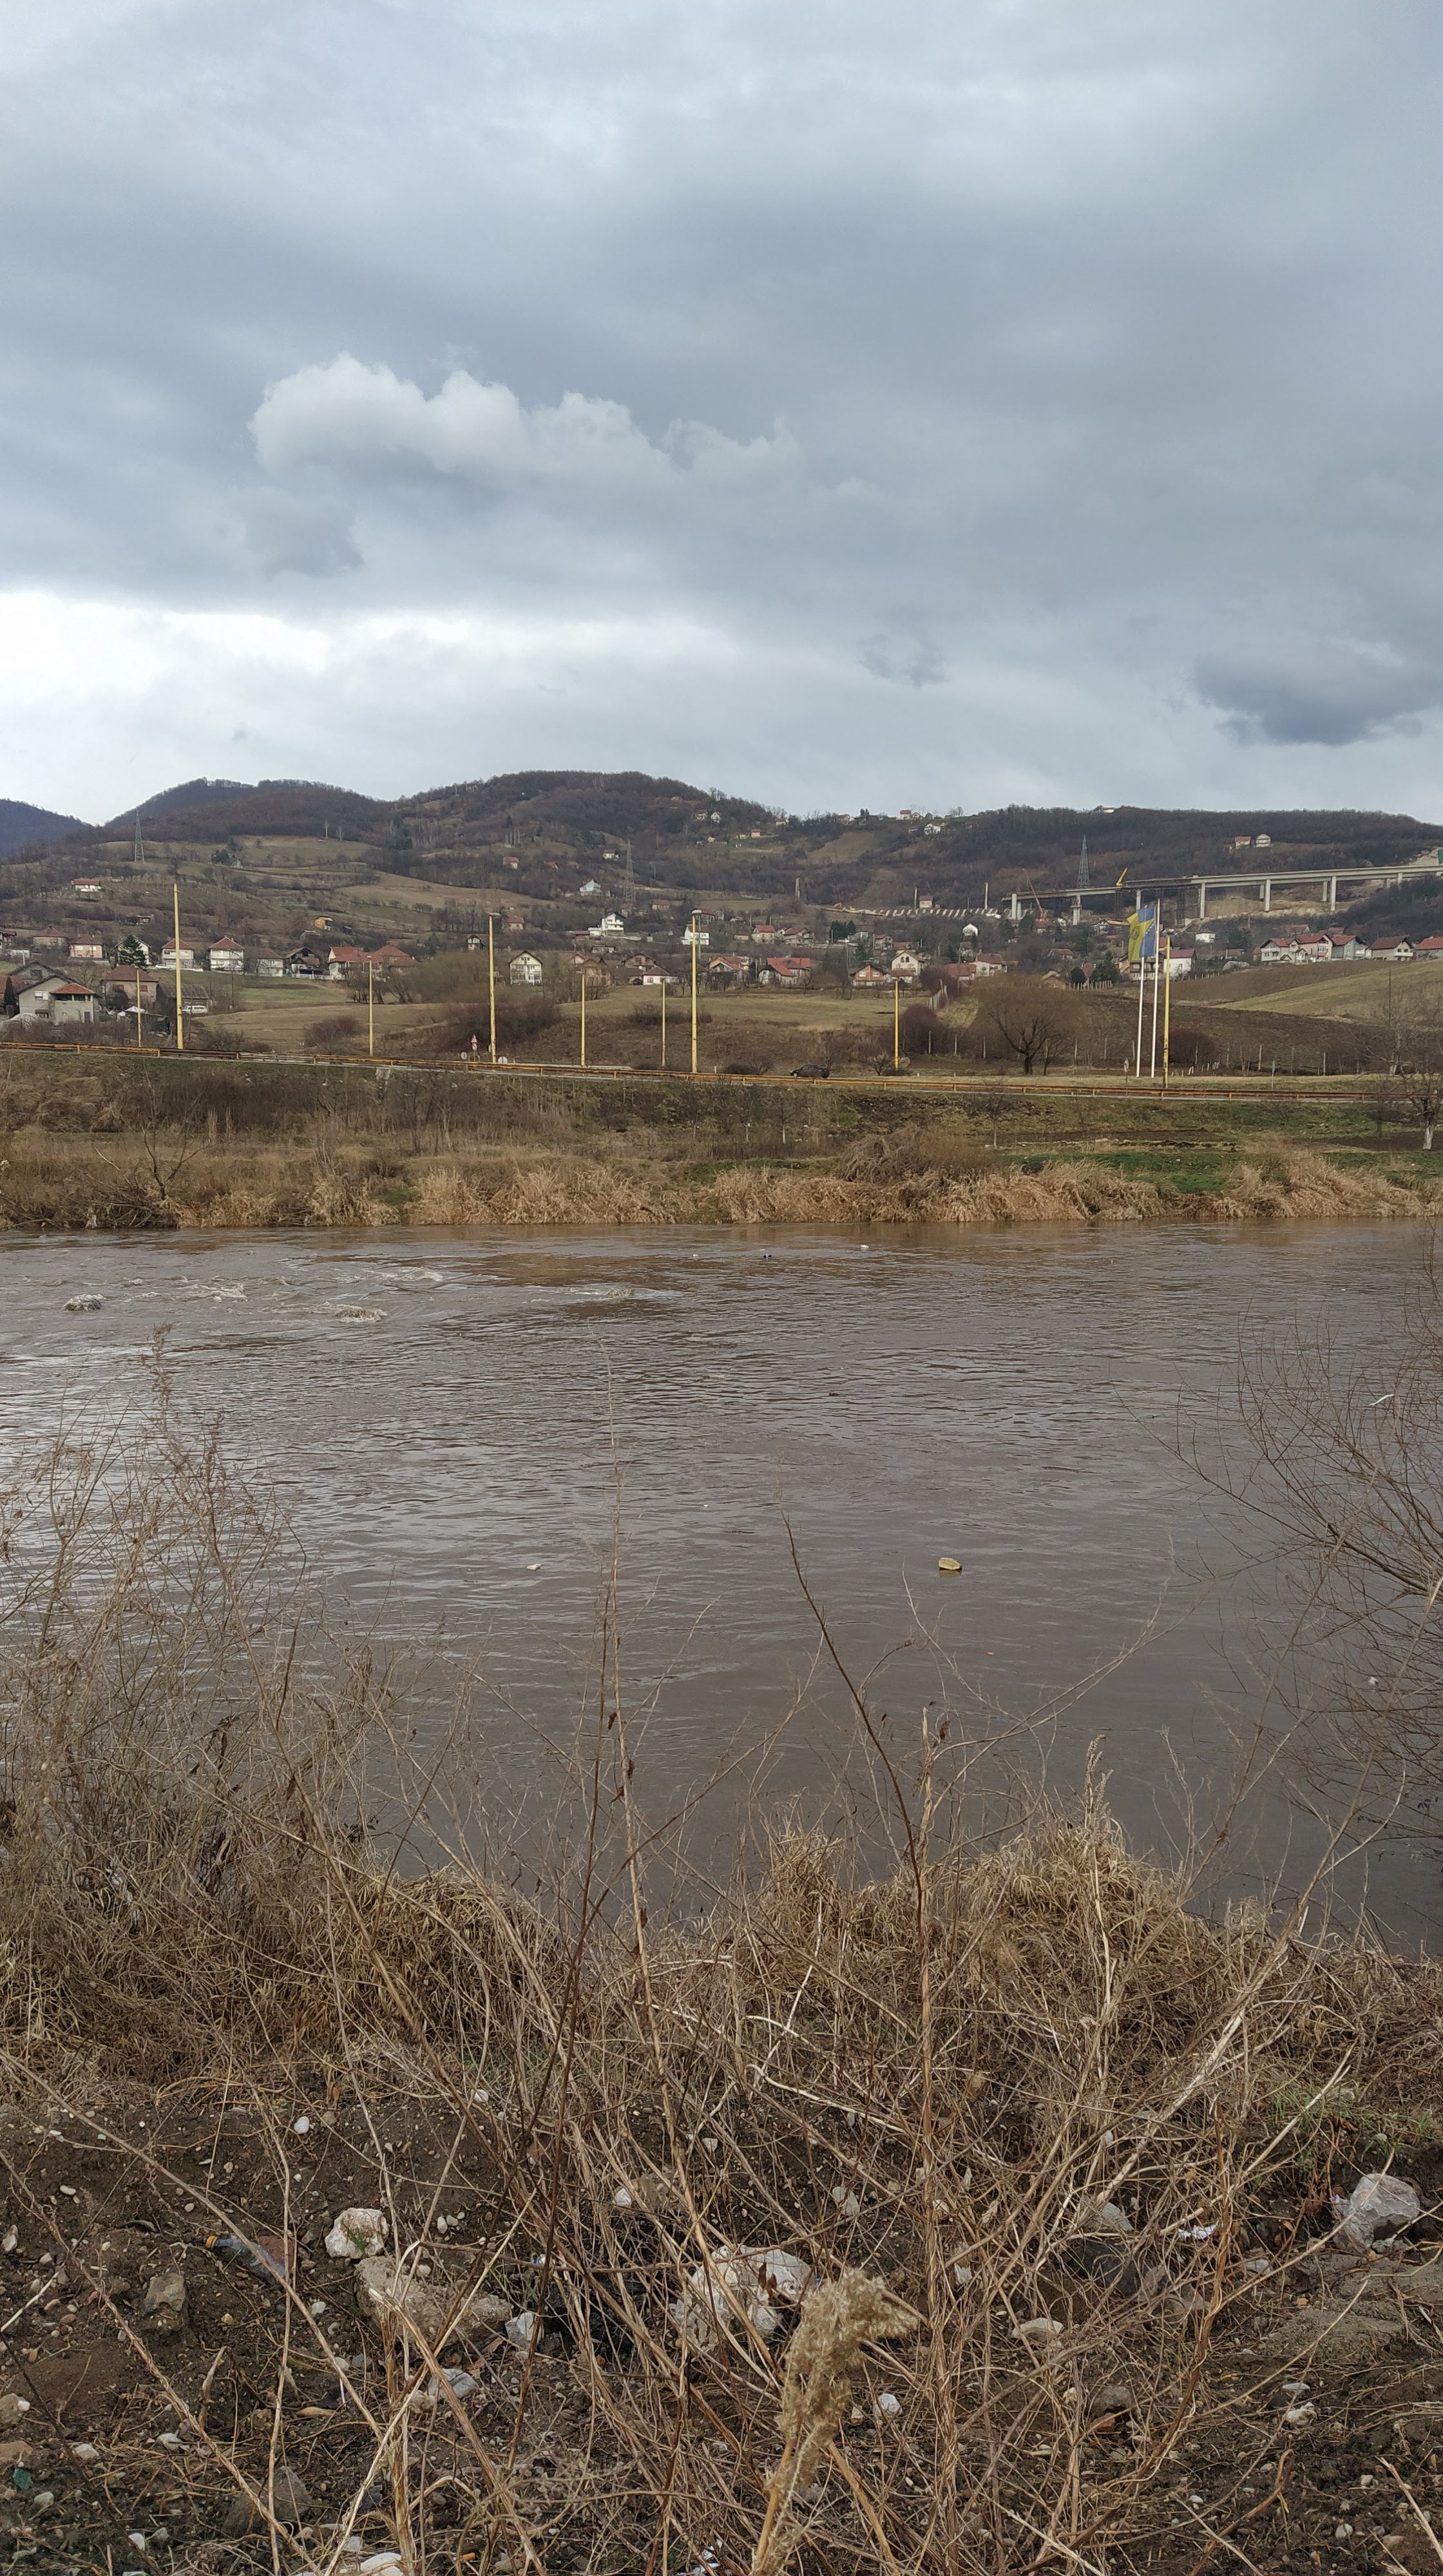Plastic Bottle: (938, 1557, 963, 1569), (528, 1562, 542, 1569), (1370, 1675, 1377, 1684), (829, 1392, 837, 1396), (765, 1254, 770, 1258), (760, 1247, 765, 1251), (860, 1246, 868, 1247), (692, 1254, 698, 1256)
